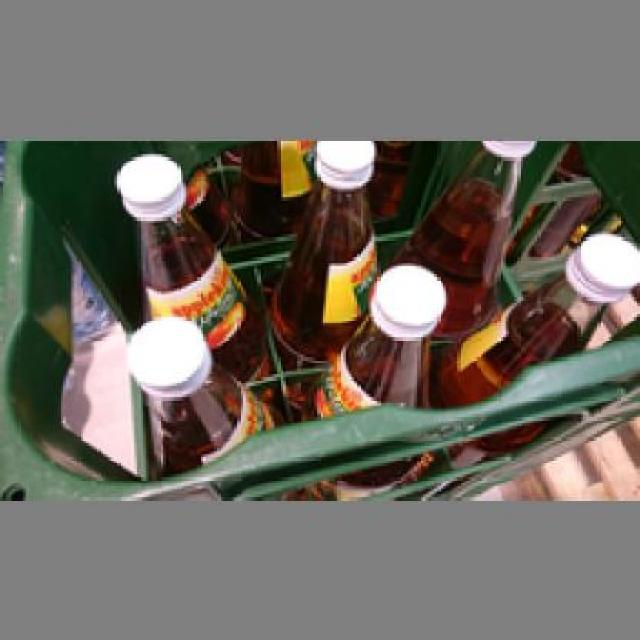Juice: (108, 146, 272, 372), (306, 266, 452, 468), (266, 137, 380, 363), (120, 320, 286, 469)
